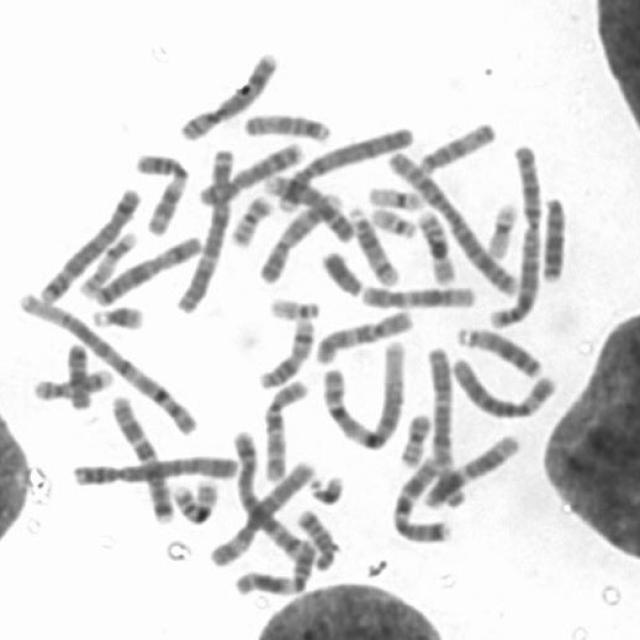A1: (9, 287, 201, 438), (317, 334, 409, 451)
A2: (382, 145, 520, 297), (486, 137, 545, 330)
A3: (170, 142, 237, 314), (422, 339, 466, 510)
B4: (266, 119, 417, 214), (67, 448, 243, 488)
B5: (31, 180, 143, 307), (228, 424, 315, 562)
C10: (309, 303, 417, 366), (258, 372, 310, 483)
C11: (131, 145, 192, 237), (230, 536, 318, 597)
C12: (418, 427, 524, 510), (356, 276, 478, 310)
C6: (204, 455, 316, 567), (446, 352, 560, 421)
C7: (104, 388, 178, 524), (387, 450, 454, 544)
C8: (174, 45, 281, 142), (192, 135, 307, 207)
C9: (253, 186, 344, 284), (258, 167, 356, 243)
D13: (451, 320, 545, 380), (536, 189, 570, 283)
D14: (344, 200, 403, 287), (254, 312, 317, 391)
D15: (413, 116, 500, 176), (238, 105, 334, 143)
E16: (412, 203, 460, 285), (166, 473, 222, 525)
E17: (74, 226, 138, 298), (28, 362, 118, 402)
E18: (291, 502, 340, 571), (60, 337, 96, 411)
F19: (481, 196, 520, 260), (362, 179, 427, 212)
F20: (224, 188, 275, 248), (395, 406, 434, 468)
G21: (86, 298, 147, 331), (304, 468, 348, 506)
G22: (365, 200, 421, 240), (264, 290, 323, 322)
X: (85, 228, 205, 307)
Y: (316, 243, 365, 297)
